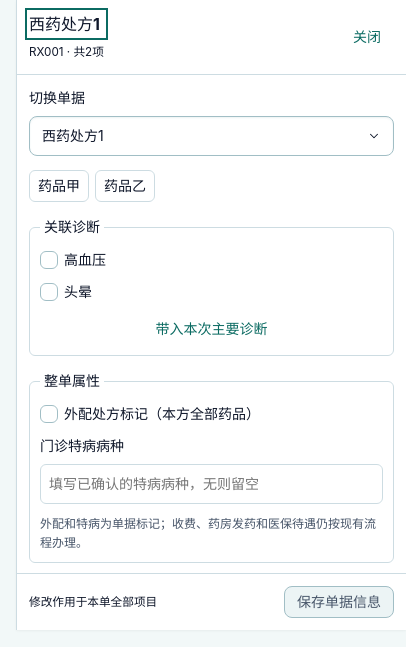
Scenario: order document metadata › saves metadata against the selected document revision and retains all member orders
Click the button "带入本次主要诊断": (212, 329) x1=40 y1=313 x2=383 y2=345
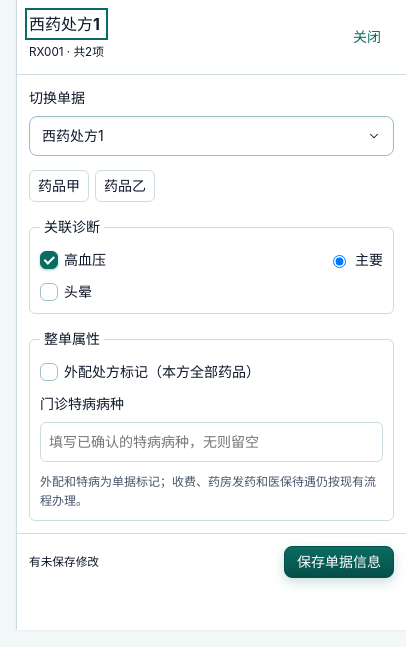
Click the checkbox labelled "外配处方标记（本方全部药品）": (49, 372) x1=40 y1=363 x2=58 y2=381
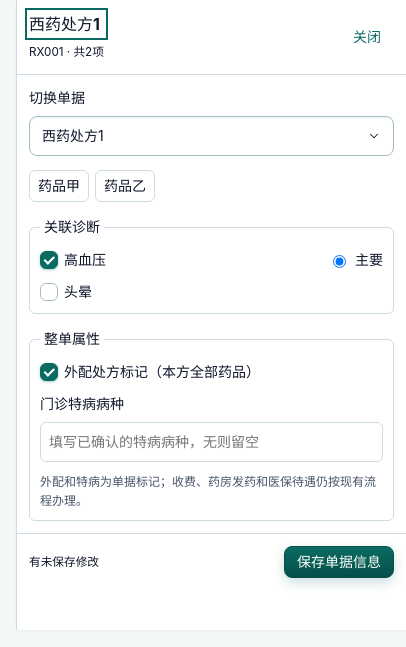
In the field labelled "门诊特病病种": (212, 442) x1=40 y1=422 x2=383 y2=462, type "高血压"
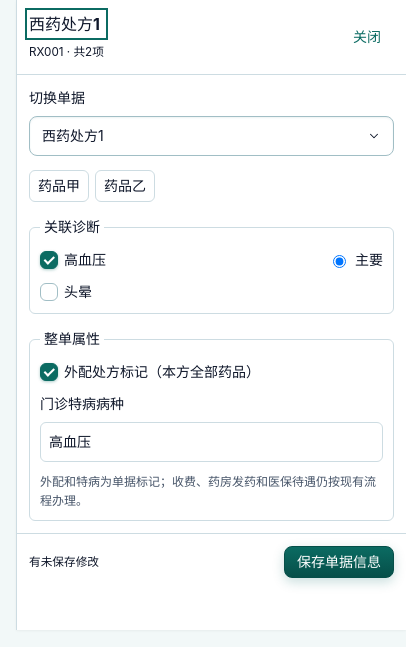
Click the button "保存单据信息": (339, 562) x1=284 y1=546 x2=394 y2=578
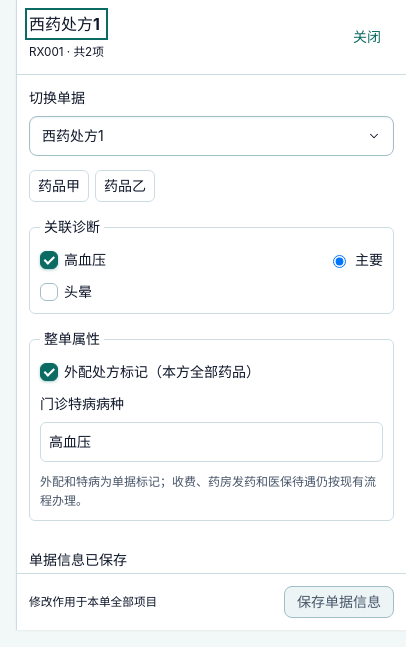
Check: the button "药品甲" is shown, box x1=29 y1=170 x2=89 y2=202
Check: the button "保存单据信息" is disabled, box x1=284 y1=586 x2=394 y2=618
